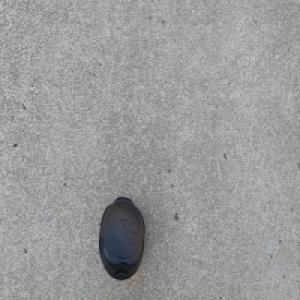FuelCap: (97, 194, 146, 284)
